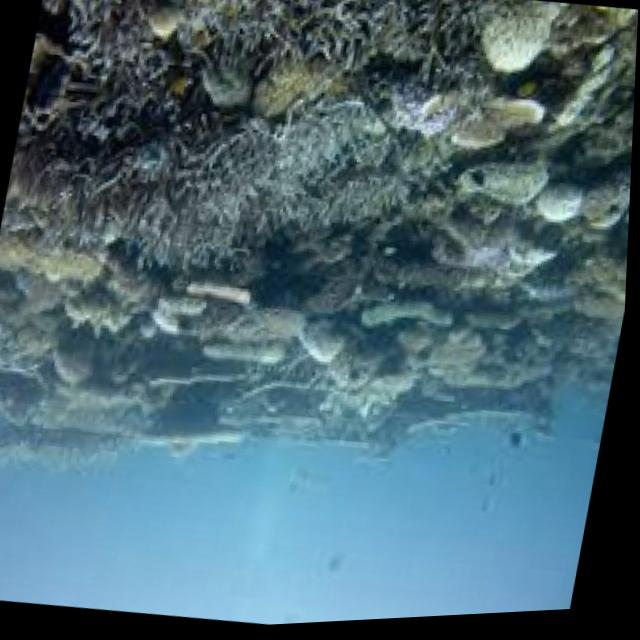Dead Coral: (0, 86, 284, 297), (232, 72, 440, 258), (215, 0, 494, 99), (28, 0, 195, 98)
